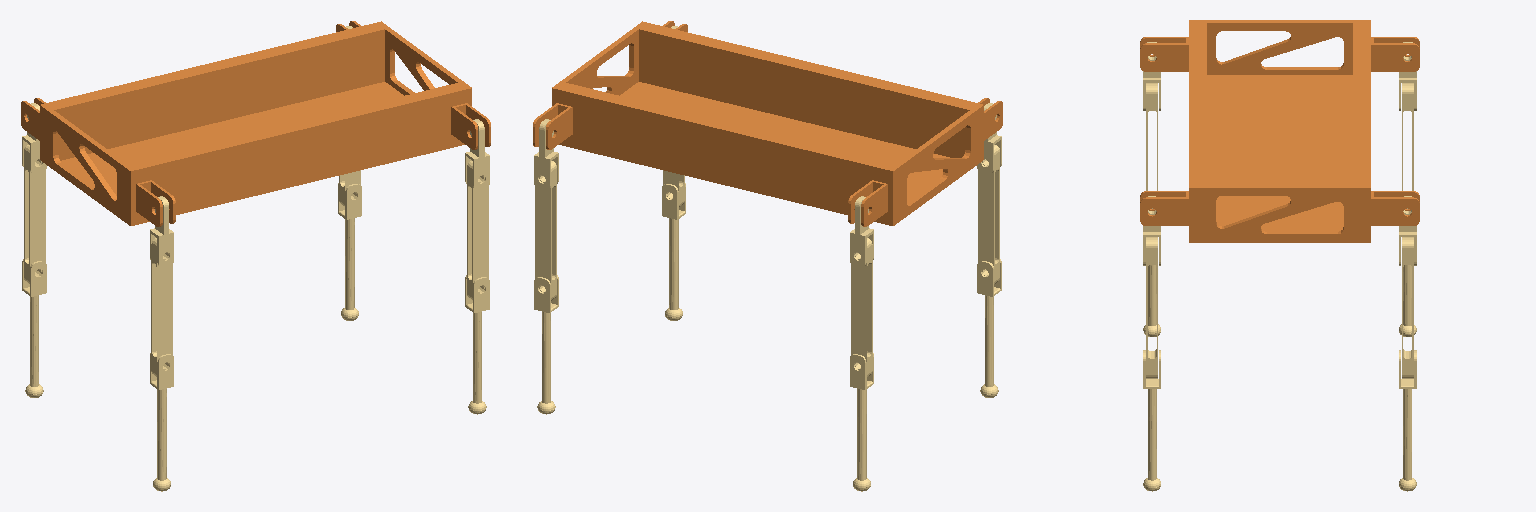
The robot description file, URDF, robot "quadroit_v1":
<?xml version="1.0" encoding="utf-8"?>
<!-- =================================================================================== -->
<!-- |    This document was autogenerated by xacro from /mnt/d/Aditya_MT/MT_Thesis/Quadruped/ROS/quadroit_ws/src/quadroit_v1/urdf/quadroitv1.urdf.xacro | -->
<!-- |    EDITING THIS FILE BY HAND IS NOT RECOMMENDED                                 | -->
<!-- =================================================================================== -->
<robot name="quadroit_v1">
  <!-- <material name="red">
        <color rgba="1 0 0 1"/>
    </material>

    <material name="white">
        <color rgba="1 1 1 1"/>
    </material> -->
  <link name="base_link">
    <contact>
      <lateral_friction value="1"/>
    </contact>
    <inertial>
      <origin rpy="0 0 0" xyz="0 0 0"/>
      <mass value="10"/>
      <inertia ixx="1.0" ixy="0.0" ixz="0.0" iyy="1.0" iyz="0.0" izz="1.0"/>
    </inertial>
    <visual>
      <origin rpy="0 0 0" xyz="0 0 0"/>
      <geometry>
        <mesh filename="meshes/base_link_torso.STL"/>
      </geometry>
      <material name="orange">
        <color rgba="0.92 0.59 0.30 1"/>
      </material>
    </visual>
    <collision>
      <origin rpy="0 0 0" xyz="0 0 0"/>
      <geometry>
        <mesh filename="meshes/base_link_torso.STL"/>
      </geometry>
    </collision>
  </link>


  <link name="hip_link_FL">
    <contact>
      <lateral_friction value="1"/>
    </contact>
    <inertial>
      <origin rpy="0 0 0" xyz="0.04 0 0"/>
      <mass value="2"/>
      <inertia ixx="1.0" ixy="0.0" ixz="0.0" iyy="1.0" iyz="0.0" izz="1.0"/>
    </inertial>
    <visual>
      <origin rpy="0 0 0" xyz="0 0 0"/>
      <geometry>
        <mesh filename="meshes/leg_fr_hip.STL"/>
      </geometry>
      <material name="honey">
        <color rgba="0.99 0.89 0.65 1"/>
      </material>
    </visual>
    <collision>
      <origin rpy="0 0 0" xyz="0 0 0"/>
      <geometry>
        <mesh filename="meshes/leg_fr_hip.STL"/>
      </geometry>
    </collision>
    <!-- <xacro:default_inertial mass="2"/> -->
  </link>
  <joint name="hip_joint_FL" type="revolute">
    <axis xyz="0 0 1"/>
    <limit effort="100" velocity="100"/>
    <joint_properties damping=".0" friction=".0"/>
    <parent link="base_link"/>
    <child link="hip_link_FL"/>
    <origin rpy="1.57075 1.57075 1.57075" xyz="0.3 0.21 0"/>
  </joint>
  <link name="thigh_link_FL">
    <contact>
      <lateral_friction value="1"/>
    </contact>
    <inertial>
      <origin rpy="0 0 0" xyz="0.1 0 0"/>
      <mass value="2"/>
      <inertia ixx="1.0" ixy="0.0" ixz="0.0" iyy="1.0" iyz="0.0" izz="1.0"/>
    </inertial>
    <visual>
      <origin rpy="0 0 0" xyz="0 0 0"/>
      <geometry>
        <mesh filename="meshes/leg_fr_thigh.STL"/>
      </geometry>
      <material name="honey">
        <color rgba="0.99 0.89 0.65 1"/>
      </material>
    </visual>
    <collision>
      <origin rpy="0 0 0" xyz="0 0 0"/>
      <geometry>
        <mesh filename="meshes/leg_fr_thigh.STL"/>
      </geometry>
    </collision>
    <!-- <xacro:default_inertial mass="2"/> -->
  </link>
  <joint name="elbow_joint_FL" type="revolute">
    <axis xyz="0 0 1"/>
    <limit effort="100" velocity="100"/>
    <joint_properties damping=".0" friction=".0"/>
    <parent link="hip_link_FL"/>
    <child link="thigh_link_FL"/>
    <origin rpy="1.57075 0 0" xyz="0.08 0 0"/>
  </joint>
  <link name="shank_link_FL">
    <contact>
      <lateral_friction value="1"/>
    </contact>
    <inertial>
      <origin rpy="0 0 0" xyz="0.11 0 0"/>
      <mass value="2"/>
      <inertia ixx="1.0" ixy="0.0" ixz="0.0" iyy="1.0" iyz="0.0" izz="1.0"/>
    </inertial>
    <visual>
      <origin rpy="0 0 0" xyz="0 0 0"/>
      <geometry>
        <mesh filename="meshes/leg_fr_shank.STL"/>
      </geometry>
      <material name="honey">
        <color rgba="0.99 0.89 0.65 1"/>
      </material>
    </visual>
    <collision>
      <origin rpy="0 0 0" xyz="0 0 0"/>
      <geometry>
        <mesh filename="meshes/leg_fr_shank.STL"/>
      </geometry>
    </collision>
  </link>
  <joint name="wrist_joint_FL" type="revolute">
    <axis xyz="0 0 1"/>
    <limit effort="100" velocity="100"/>
    <joint_properties damping=".0" friction=".0"/>
    <parent link="thigh_link_FL"/>
    <child link="shank_link_FL"/>
    <origin rpy="0 0 0" xyz="0.2 0 0"/>
  </joint>
  <link name="foot_link_FL">
    <contact>
      <friction_anchor/>
      <stiffness value="30000.0"/>
      <damping value="10000.0"/>
      <spinning_friction value="0.1"/>
      <lateral_friction value="10.0"/>
    </contact>
    <visual>
      <origin rpy="0 0 0" xyz="0 0 0"/>
      <geometry>
        <sphere radius="0.001"/>
      </geometry>
      <material name="honey">
        <color rgba="0.99 0.89 0.65 1"/>
      </material>
    </visual>
    <collision>
      <origin rpy="0 0 0" xyz="0 0 0"/>
      <geometry>
        <sphere radius="0.03"/>
      </geometry>
    </collision>
    <inertial>
      <mass value="0.1"/>
      <inertia ixx="0.000025" ixy="0" ixz="0" iyy="0.000025" iyz="0" izz="0.000025"/>
    </inertial>
  </link>
  <joint name="foot_FL" type="fixed">
    <parent link="shank_link_FL"/>
    <child link="foot_link_FL"/>
    <origin xyz="0.23 0 0"/>
    <dynamics damping="0.0" friction="0.0"/>
  </joint>

  
  <link name="hip_link_FR">
    <contact>
      <lateral_friction value="1"/>
    </contact>
    <inertial>
      <origin rpy="0 0 0" xyz="0.04 0 0"/>
      <mass value="2"/>
      <inertia ixx="1.0" ixy="0.0" ixz="0.0" iyy="1.0" iyz="0.0" izz="1.0"/>
    </inertial>
    <visual>
      <origin rpy="0 0 0" xyz="0 0 0"/>
      <geometry>
        <mesh filename="meshes/leg_fr_hip.STL"/>
      </geometry>
      <material name="honey">
        <color rgba="0.99 0.89 0.65 1"/>
      </material>
    </visual>
    <collision>
      <origin rpy="0 0 0" xyz="0 0 0"/>
      <geometry>
        <mesh filename="meshes/leg_fr_hip.STL"/>
      </geometry>
    </collision>
    <!-- <xacro:default_inertial mass="2"/> -->
  </link>
  <joint name="hip_joint_FR" type="revolute">
    <axis xyz="0 0 1"/>
    <limit effort="100" velocity="100"/>
    <joint_properties damping=".0" friction=".0"/>
    <parent link="base_link"/>
    <child link="hip_link_FR"/>
    <origin rpy="1.57075 1.57075 1.57075" xyz="0.3 -0.21 0"/>
  </joint>
  <link name="thigh_link_FR">
    <contact>
      <lateral_friction value="1"/>
    </contact>
    <inertial>
      <origin rpy="0 0 0" xyz="0.1 0 0"/>
      <mass value="2"/>
      <inertia ixx="1.0" ixy="0.0" ixz="0.0" iyy="1.0" iyz="0.0" izz="1.0"/>
    </inertial>
    <visual>
      <origin rpy="0 0 0" xyz="0 0 0"/>
      <geometry>
        <mesh filename="meshes/leg_fr_thigh.STL"/>
      </geometry>
      <material name="honey">
        <color rgba="0.99 0.89 0.65 1"/>
      </material>
    </visual>
    <collision>
      <origin rpy="0 0 0" xyz="0 0 0"/>
      <geometry>
        <mesh filename="meshes/leg_fr_thigh.STL"/>
      </geometry>
    </collision>
    <!-- <xacro:default_inertial mass="2"/> -->
  </link>
  <joint name="elbow_joint_FR" type="revolute">
    <axis xyz="0 0 1"/>
    <limit effort="100" velocity="100"/>
    <joint_properties damping=".0" friction=".0"/>
    <parent link="hip_link_FR"/>
    <child link="thigh_link_FR"/>
    <origin rpy="1.57075 0 0" xyz="0.08 0 0"/>
  </joint>
  <link name="shank_link_FR">
    <contact>
      <lateral_friction value="1"/>
    </contact>
    <inertial>
      <origin rpy="0 0 0" xyz="0.11 0 0"/>
      <mass value="2"/>
      <inertia ixx="1.0" ixy="0.0" ixz="0.0" iyy="1.0" iyz="0.0" izz="1.0"/>
    </inertial>
    <visual>
      <origin rpy="0 0 0" xyz="0 0 0"/>
      <geometry>
        <mesh filename="meshes/leg_fr_shank.STL"/>
      </geometry>
      <material name="honey">
        <color rgba="0.99 0.89 0.65 1"/>
      </material>
    </visual>
    <collision>
      <origin rpy="0 0 0" xyz="0 0 0"/>
      <geometry>
        <mesh filename="meshes/leg_fr_shank.STL"/>
      </geometry>
    </collision>
    <!-- <xacro:default_inertial mass="2"/> -->
  </link>
  <joint name="wrist_joint_FR" type="revolute">
    <axis xyz="0 0 1"/>
    <limit effort="100" velocity="100"/>
    <joint_properties damping=".0" friction=".0"/>
    <parent link="thigh_link_FR"/>
    <child link="shank_link_FR"/>
    <origin rpy="0 0 0" xyz="0.2 0 0"/>
  </joint>
  <link name="foot_link_FR">
    <contact>
      <friction_anchor/>
      <stiffness value="30000.0"/>
      <damping value="10000.0"/>
      <spinning_friction value="0.1"/>
      <lateral_friction value="10.0"/>
    </contact>
    <visual>
      <origin rpy="0 0 0" xyz="0 0 0"/>
      <geometry>
        <sphere radius="0.001"/>
      </geometry>
      <material name="honey">
        <color rgba="0.99 0.89 0.65 1"/>
      </material>
    </visual>
    <collision>
      <origin rpy="0 0 0" xyz="0 0 0"/>
      <geometry>
        <sphere radius="0.03"/>
      </geometry>
    </collision>
    <inertial>
      <mass value="0.1"/>
      <inertia ixx="0.000025" ixy="0" ixz="0" iyy="0.000025" iyz="0" izz="0.000025"/>
    </inertial>
  </link>
  <joint name="foot_FR" type="fixed">
    <parent link="shank_link_FR"/>
    <child link="foot_link_FR"/>
    <origin xyz="0.23 0 0"/>
    <dynamics damping="0.0" friction="0.0"/>
  </joint>


  <link name="hip_link_RL">
    <contact>
      <lateral_friction value="1"/>
    </contact>
    <inertial>
      <origin rpy="0 0 0" xyz="0.04 0 0"/>
      <mass value="2"/>
      <inertia ixx="1.0" ixy="0.0" ixz="0.0" iyy="1.0" iyz="0.0" izz="1.0"/>
    </inertial>
    <visual>
      <origin rpy="0 0 0" xyz="0 0 0"/>
      <geometry>
        <mesh filename="meshes/leg_fr_hip.STL"/>
      </geometry>
      <material name="honey">
        <color rgba="0.99 0.89 0.65 1"/>
      </material>
    </visual>
    <collision>
      <origin rpy="0 0 0" xyz="0 0 0"/>
      <geometry>
        <mesh filename="meshes/leg_fr_hip.STL"/>
      </geometry>
    </collision>
    <!-- <xacro:default_inertial mass="2"/> -->
  </link>
  <joint name="hip_joint_RL" type="revolute">
    <axis xyz="0 0 1"/>
    <limit effort="100" velocity="100"/>
    <joint_properties damping=".0" friction=".0"/>
    <parent link="base_link"/>
    <child link="hip_link_RL"/>
    <origin rpy="1.57075 1.57075 1.57075" xyz="-0.3 0.21 0"/>
  </joint>
  <link name="thigh_link_RL">
    <contact>
      <lateral_friction value="1"/>
    </contact>
    <inertial>
      <origin rpy="0 0 0" xyz="0.1 0 0"/>
      <mass value="2"/>
      <inertia ixx="1.0" ixy="0.0" ixz="0.0" iyy="1.0" iyz="0.0" izz="1.0"/>
    </inertial>
    <visual>
      <origin rpy="0 0 0" xyz="0 0 0"/>
      <geometry>
        <mesh filename="meshes/leg_fr_thigh.STL"/>
      </geometry>
      <material name="honey">
        <color rgba="0.99 0.89 0.65 1"/>
      </material>
    </visual>
    <collision>
      <origin rpy="0 0 0" xyz="0 0 0"/>
      <geometry>
        <mesh filename="meshes/leg_fr_thigh.STL"/>
      </geometry>
    </collision>
    <!-- <xacro:default_inertial mass="2"/> -->
  </link>
  <joint name="elbow_joint_RL" type="revolute">
    <axis xyz="0 0 1"/>
    <limit effort="100" velocity="100"/>
    <joint_properties damping=".0" friction=".0"/>
    <parent link="hip_link_RL"/>
    <child link="thigh_link_RL"/>
    <origin rpy="1.57075 0 0" xyz="0.08 0 0"/>
  </joint>
  <link name="shank_link_RL">
    <contact>
      <lateral_friction value="1"/>
    </contact>
    <inertial>
      <origin rpy="0 0 0" xyz="0.11 0 0"/>
      <mass value="2"/>
      <inertia ixx="1.0" ixy="0.0" ixz="0.0" iyy="1.0" iyz="0.0" izz="1.0"/>
    </inertial>
    <visual>
      <origin rpy="0 0 0" xyz="0 0 0"/>
      <geometry>
        <mesh filename="meshes/leg_fr_shank.STL"/>
      </geometry>
      <material name="honey">
        <color rgba="0.99 0.89 0.65 1"/>
      </material>
    </visual>
    <collision>
      <origin rpy="0 0 0" xyz="0 0 0"/>
      <geometry>
        <mesh filename="meshes/leg_fr_shank.STL"/>
      </geometry>
    </collision>
    <!-- <xacro:default_inertial mass="2"/> -->
  </link>
  <joint name="wrist_joint_RL" type="revolute">
    <axis xyz="0 0 1"/>
    <limit effort="100" velocity="100"/>
    <joint_properties damping=".0" friction=".0"/>
    <parent link="thigh_link_RL"/>
    <child link="shank_link_RL"/>
    <origin rpy="0 0 0" xyz="0.2 0 0"/>
  </joint>
  <link name="foot_link_RL">
    <contact>
      <friction_anchor/>
      <stiffness value="30000.0"/>
      <damping value="10000.0"/>
      <spinning_friction value="0.1"/>
      <lateral_friction value="10.0"/>
    </contact>
    <visual>
      <origin rpy="0 0 0" xyz="0 0 0"/>
      <geometry>
        <sphere radius="0.001"/>
      </geometry>
      <material name="honey">
        <color rgba="0.99 0.89 0.65 1"/>
      </material>
    </visual>
    <collision>
      <origin rpy="0 0 0" xyz="0 0 0"/>
      <geometry>
        <sphere radius="0.03"/>
      </geometry>
    </collision>
    <inertial>
      <mass value="0.1"/>
      <inertia ixx="0.000025" ixy="0" ixz="0" iyy="0.000025" iyz="0" izz="0.000025"/>
    </inertial>
  </link>
  <joint name="foot_RL" type="fixed">
    <parent link="shank_link_RL"/>
    <child link="foot_link_RL"/>
    <origin xyz="0.23 0 0"/>
    <dynamics damping="0.0" friction="0.0"/>
  </joint>


  <link name="hip_link_RR">
    <contact>
      <lateral_friction value="1"/>
    </contact>
    <inertial>
      <origin rpy="0 0 0" xyz="0.04 0 0"/>
      <mass value="2"/>
      <inertia ixx="1.0" ixy="0.0" ixz="0.0" iyy="1.0" iyz="0.0" izz="1.0"/>
    </inertial>
    <visual>
      <origin rpy="0 0 0" xyz="0 0 0"/>
      <geometry>
        <mesh filename="meshes/leg_fr_hip.STL"/>
      </geometry>
      <material name="honey">
        <color rgba="0.99 0.89 0.65 1"/>
      </material>
    </visual>
    <collision>
      <origin rpy="0 0 0" xyz="0 0 0"/>
      <geometry>
        <mesh filename="meshes/leg_fr_hip.STL"/>
      </geometry>
    </collision>
    <!-- <xacro:default_inertial mass="2"/> -->
  </link>
  <joint name="hip_joint_RR" type="revolute">
    <axis xyz="0 0 1"/>
    <limit effort="100" velocity="100"/>
    <joint_properties damping=".0" friction=".0"/>
    <parent link="base_link"/>
    <child link="hip_link_RR"/>
    <origin rpy="1.57075 1.57075 1.57075" xyz="-0.3 -0.21 0"/>
  </joint>
  <link name="thigh_link_RR">
    <contact>
      <lateral_friction value="1"/>
    </contact>
    <inertial>
      <origin rpy="0 0 0" xyz="0.1 0 0"/>
      <mass value="2"/>
      <inertia ixx="1.0" ixy="0.0" ixz="0.0" iyy="1.0" iyz="0.0" izz="1.0"/>
    </inertial>
    <visual>
      <origin rpy="0 0 0" xyz="0 0 0"/>
      <geometry>
        <mesh filename="meshes/leg_fr_thigh.STL"/>
      </geometry>
      <material name="honey">
        <color rgba="0.99 0.89 0.65 1"/>
      </material>
    </visual>
    <collision>
      <origin rpy="0 0 0" xyz="0 0 0"/>
      <geometry>
        <mesh filename="meshes/leg_fr_thigh.STL"/>
      </geometry>
    </collision>
    <!-- <xacro:default_inertial mass="2"/> -->
  </link>
  <joint name="elbow_joint_RR" type="revolute">
    <axis xyz="0 0 1"/>
    <limit effort="100" velocity="100"/>
    <joint_properties damping=".0" friction=".0"/>
    <parent link="hip_link_RR"/>
    <child link="thigh_link_RR"/>
    <origin rpy="1.57075 0 0" xyz="0.08 0 0"/>
  </joint>
  <link name="shank_link_RR">
    <contact>
      <lateral_friction value="1"/>
    </contact>
    <inertial>
      <origin rpy="0 0 0" xyz="0.11 0 0"/>
      <mass value="2"/>
      <inertia ixx="1.0" ixy="0.0" ixz="0.0" iyy="1.0" iyz="0.0" izz="1.0"/>
    </inertial>
    <visual>
      <origin rpy="0 0 0" xyz="0 0 0"/>
      <geometry>
        <mesh filename="meshes/leg_fr_shank.STL"/>
      </geometry>
      <material name="honey">
        <color rgba="0.99 0.89 0.65 1"/>
      </material>
    </visual>
    <collision>
      <origin rpy="0 0 0" xyz="0 0 0"/>
      <geometry>
        <mesh filename="meshes/leg_fr_shank.STL"/>
      </geometry>
    </collision>
    <!-- <xacro:default_inertial mass="2"/> -->
  </link>
  <joint name="wrist_joint_RR" type="revolute">
    <axis xyz="0 0 1"/>
    <limit effort="100" velocity="100"/>
    <joint_properties damping=".0" friction=".0"/>
    <parent link="thigh_link_RR"/>
    <child link="shank_link_RR"/>
    <origin rpy="0 0 0" xyz="0.2 0 0"/>
  </joint>
  <link name="foot_link_RR">
    <contact>
      <friction_anchor/>
      <stiffness value="30000.0"/>
      <damping value="10000.0"/>
      <spinning_friction value="0.1"/>
      <lateral_friction value="10.0"/>
    </contact>
    <visual>
      <origin rpy="0 0 0" xyz="0 0 0"/>
      <geometry>
        <sphere radius="0.001"/>
      </geometry>
      <material name="honey">
        <color rgba="0.99 0.89 0.65 1"/>
      </material>
    </visual>
    <collision>
      <origin rpy="0 0 0" xyz="0 0 0"/>
      <geometry>
        <sphere radius="0.03"/>
      </geometry>
    </collision>
    <inertial>
      <mass value="0.1"/>
      <inertia ixx="0.000025" ixy="0" ixz="0" iyy="0.000025" iyz="0" izz="0.000025"/>
    </inertial>
  </link>
  <joint name="foot_RR" type="fixed">
    <parent link="shank_link_RR"/>
    <child link="foot_link_RR"/>
    <origin xyz="0.23 0 0"/>
    <dynamics damping="0.0" friction="0.0"/>
  </joint>
</robot>

--- Render facts (derived) ---
The picture shows the robot from 3 angles, left to right: view 1: azimuth 30°, elevation 25°; view 2: azimuth 150°, elevation 25°; view 3: azimuth 270°, elevation 25°; orthographic projection.
Model quadroit_v1 with 17 links and 16 joints (12 revolute, 4 fixed), rooted at base_link, posed every joint at zero.
Visible links, largest first — view 1: base_link, thigh_link_FR, thigh_link_RL, thigh_link_RR, shank_link_RR, shank_link_FL, shank_link_RL, shank_link_FR, hip_link_FR, hip_link_RR, hip_link_RL; view 2: base_link, thigh_link_FL, thigh_link_RR, thigh_link_RL, shank_link_RL, shank_link_FR, shank_link_RR, shank_link_FL, hip_link_FL, hip_link_RL, hip_link_RR; view 3: base_link, shank_link_FL, shank_link_FR, thigh_link_FL, thigh_link_FR, shank_link_RR, shank_link_RL, thigh_link_RL, thigh_link_RR.
Boxes of the visible links, <box> form: base_link: <box>21,21,490,226</box>; thigh_link_FR: <box>467,161,488,300</box>; thigh_link_RL: <box>24,145,45,283</box>; thigh_link_RR: <box>151,238,172,376</box>; shank_link_RR: <box>150,353,173,491</box>; shank_link_FL: <box>338,183,361,320</box>; shank_link_RL: <box>22,259,46,397</box>; shank_link_FR: <box>465,275,489,414</box>; hip_link_FR: <box>465,119,489,190</box>; hip_link_RR: <box>150,196,173,267</box>; hip_link_RL: <box>22,103,46,174</box>; base_link: <box>533,21,1002,226</box>; thigh_link_FL: <box>535,161,556,300</box>; thigh_link_RR: <box>978,145,999,283</box>; thigh_link_RL: <box>851,238,872,376</box>; shank_link_RL: <box>850,353,873,491</box>; shank_link_FR: <box>662,183,685,320</box>; shank_link_RR: <box>977,259,1001,397</box>; shank_link_FL: <box>534,275,558,414</box>; hip_link_FL: <box>534,119,558,190</box>; hip_link_RL: <box>850,196,873,267</box>; hip_link_RR: <box>977,103,1001,174</box>; base_link: <box>1140,20,1419,242</box>; shank_link_FL: <box>1399,350,1416,491</box>; shank_link_FR: <box>1143,350,1160,491</box>; thigh_link_FL: <box>1402,237,1413,378</box>; thigh_link_FR: <box>1146,237,1157,378</box>; shank_link_RR: <box>1143,265,1160,336</box>; shank_link_RL: <box>1399,265,1416,336</box>; thigh_link_RL: <box>1402,83,1413,208</box>; thigh_link_RR: <box>1146,83,1157,208</box>.
Size in the robot's own frame: 0.65 by 0.46 by 0.561 metres.
Meshes: 4 distinct files referenced, 13 mesh visuals loaded (4 binary STL).
